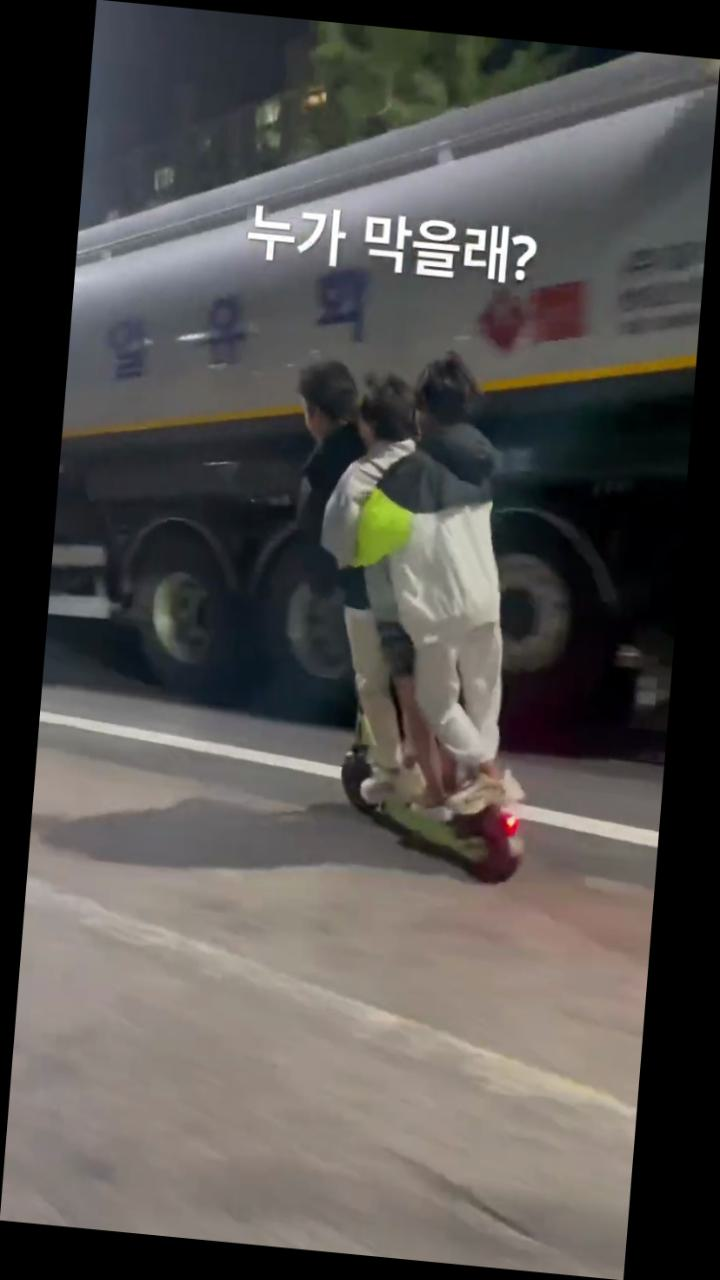multiple: (250, 333, 569, 897)
